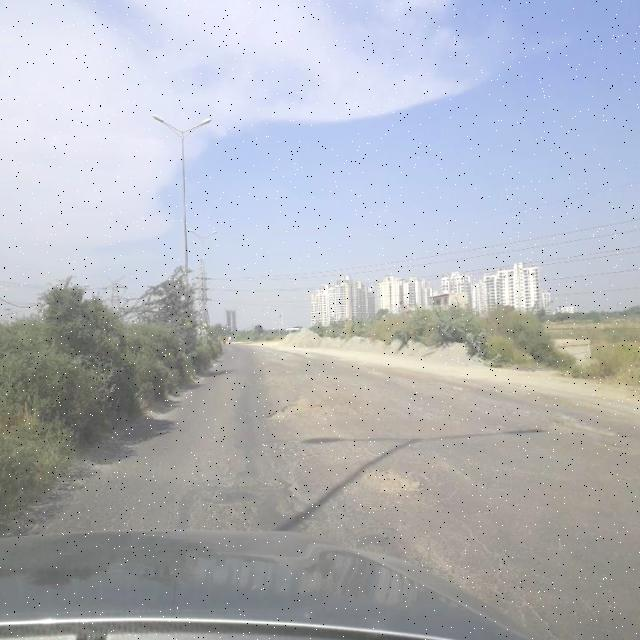D00: (452, 510, 566, 639)
D20: (193, 420, 405, 534), (51, 430, 160, 536)
D40: (408, 526, 532, 606), (262, 386, 442, 426), (492, 403, 626, 448), (357, 458, 423, 499)
